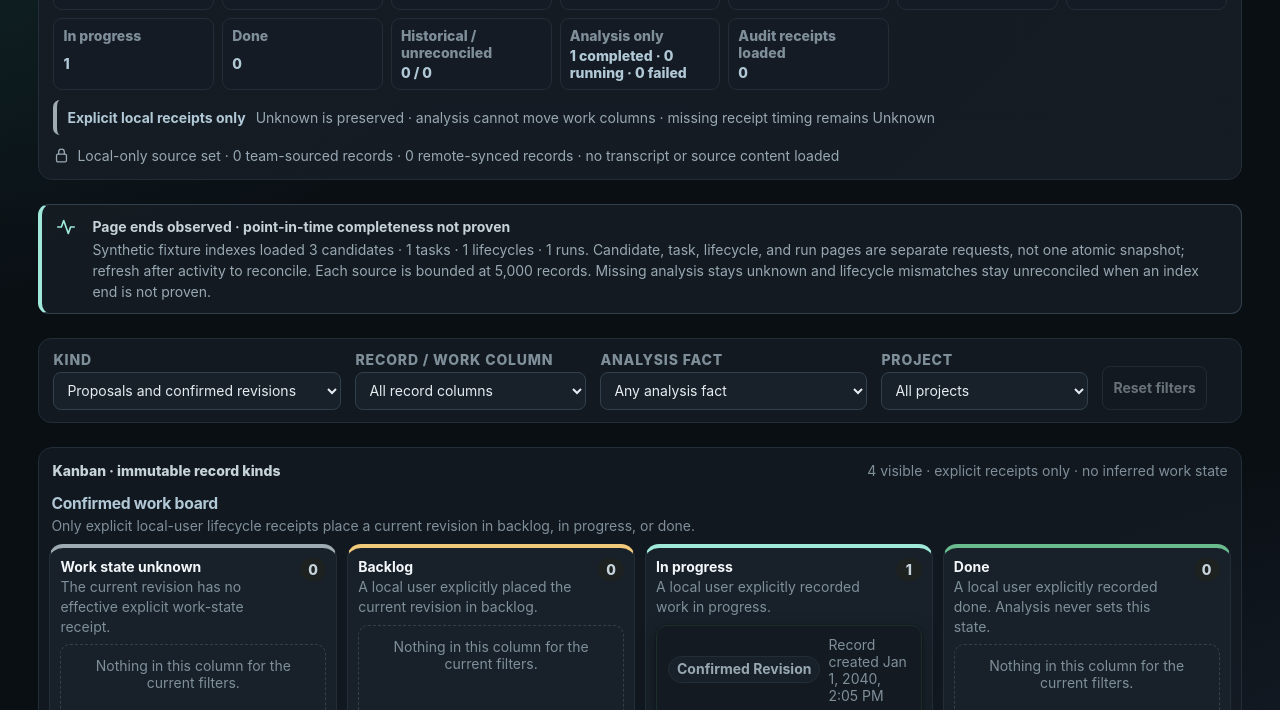
Scenario: TaskFlowPage › renders evidence-neutral columns, compact truth summary, and exact chronology
Later steps or results of the test are not shown.
(page scrolled)
Expected: the element "Done" shows "Nothing in this column", [989,657,1184,691]
Expected: the element "Work state unknown" shows "Nothing in this column", [96,657,291,691]
Select "Confirmed revisions only" in the dropdown labelled "Kind" at [197, 390], box [53,372,341,410]
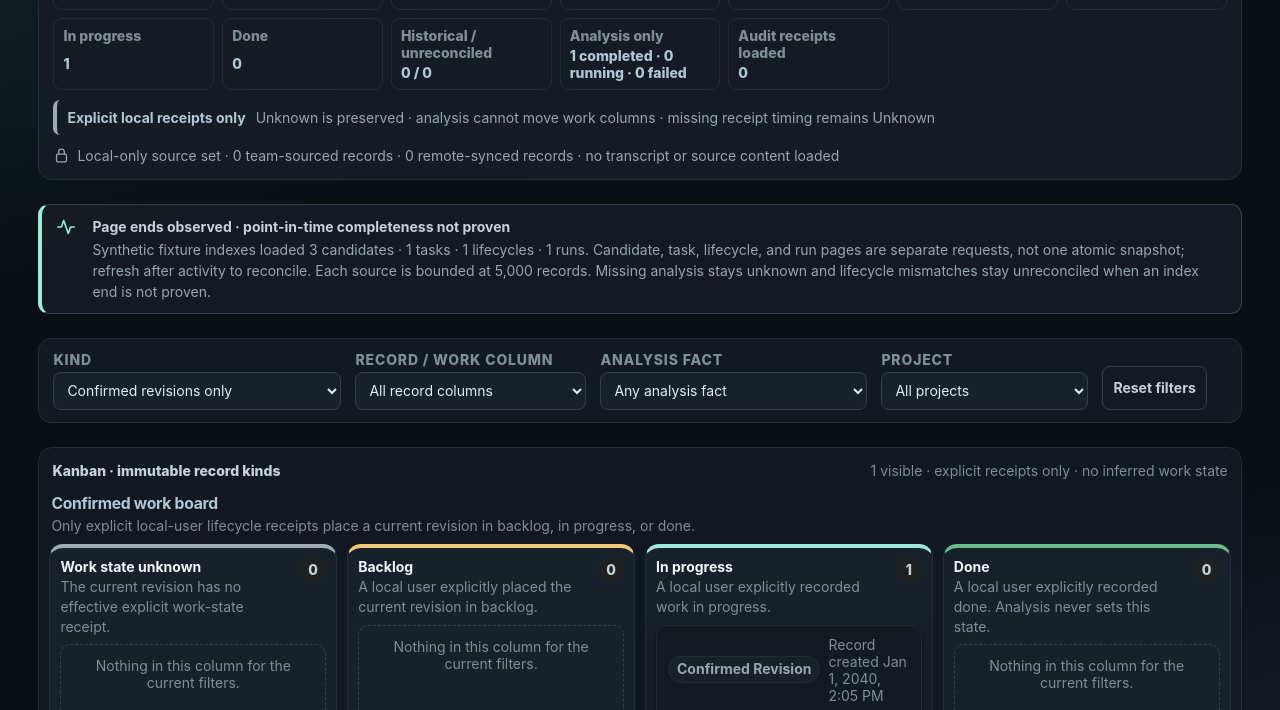
Now the button "Reset filters" is enabled, box [1102,366,1207,410]
